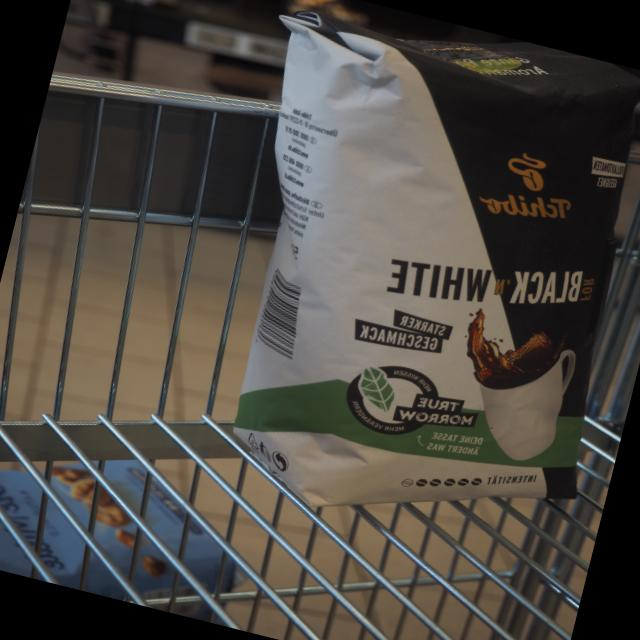BW Bohne: (158, 0, 640, 580)
